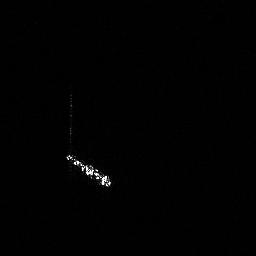ship: (63, 149, 114, 190)
